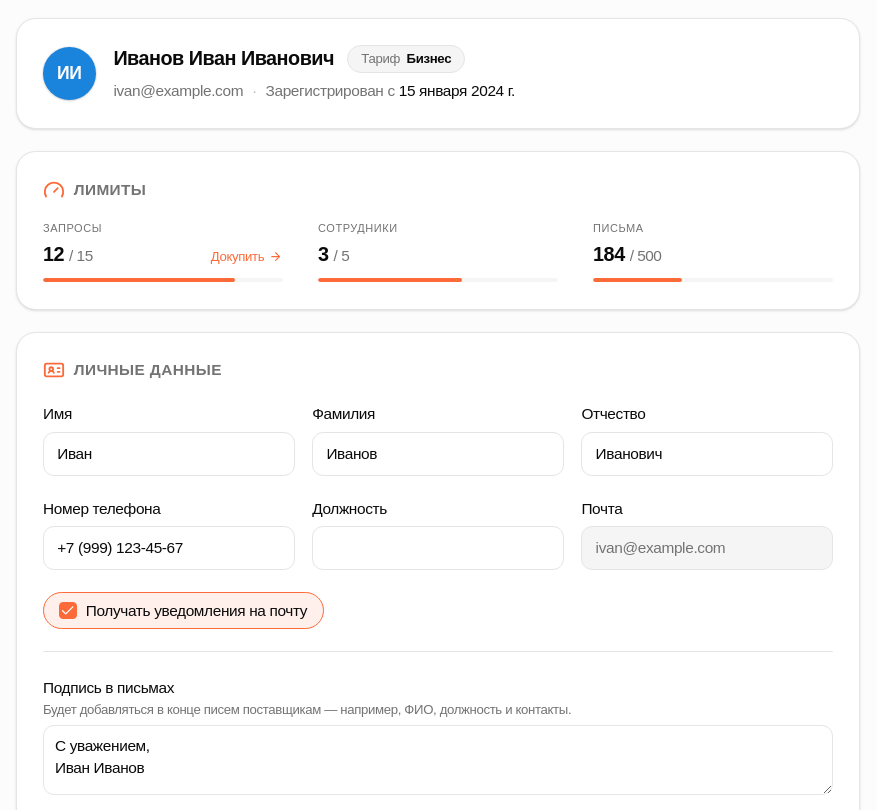
Scenario: ProfileSettingsPage › toggling email notifications checkbox enables Save
Click the checkbox named "уведомления" at (68, 611), box top-left (59, 602), bottom-right (77, 620)
(page scrolled)
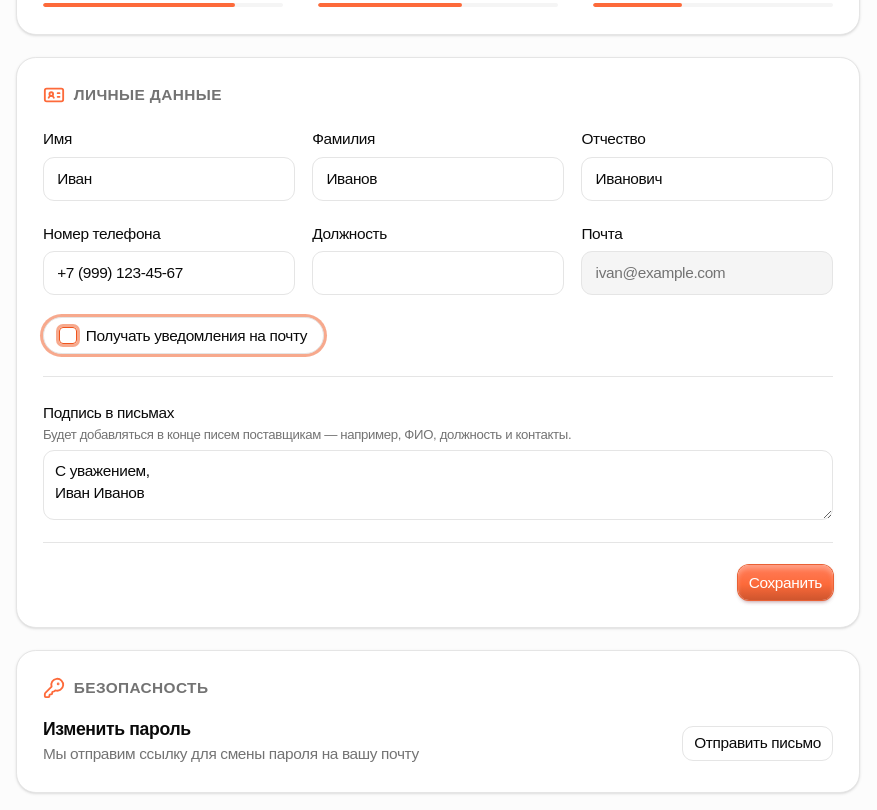
Expected: the button "Сохранить" is enabled, top-left (738, 565), bottom-right (833, 600)
